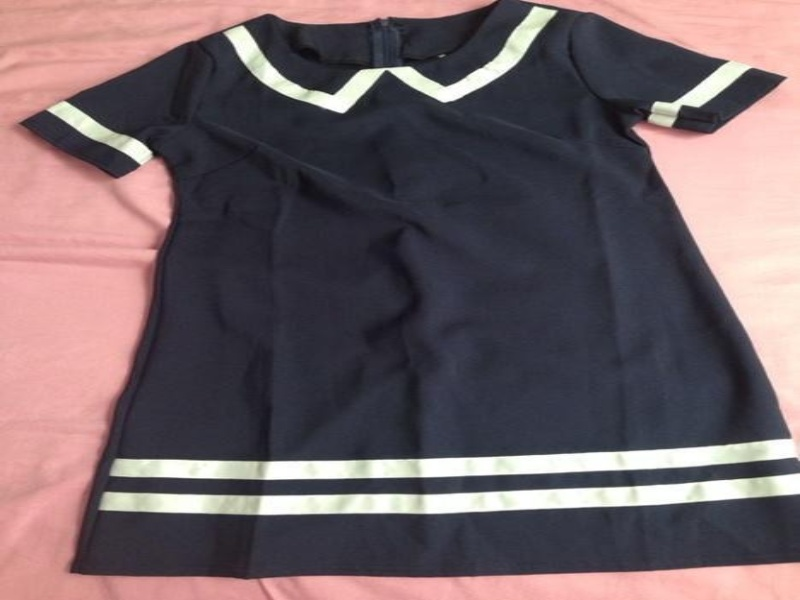short_sleeved_dress: (19, 0, 798, 582)
